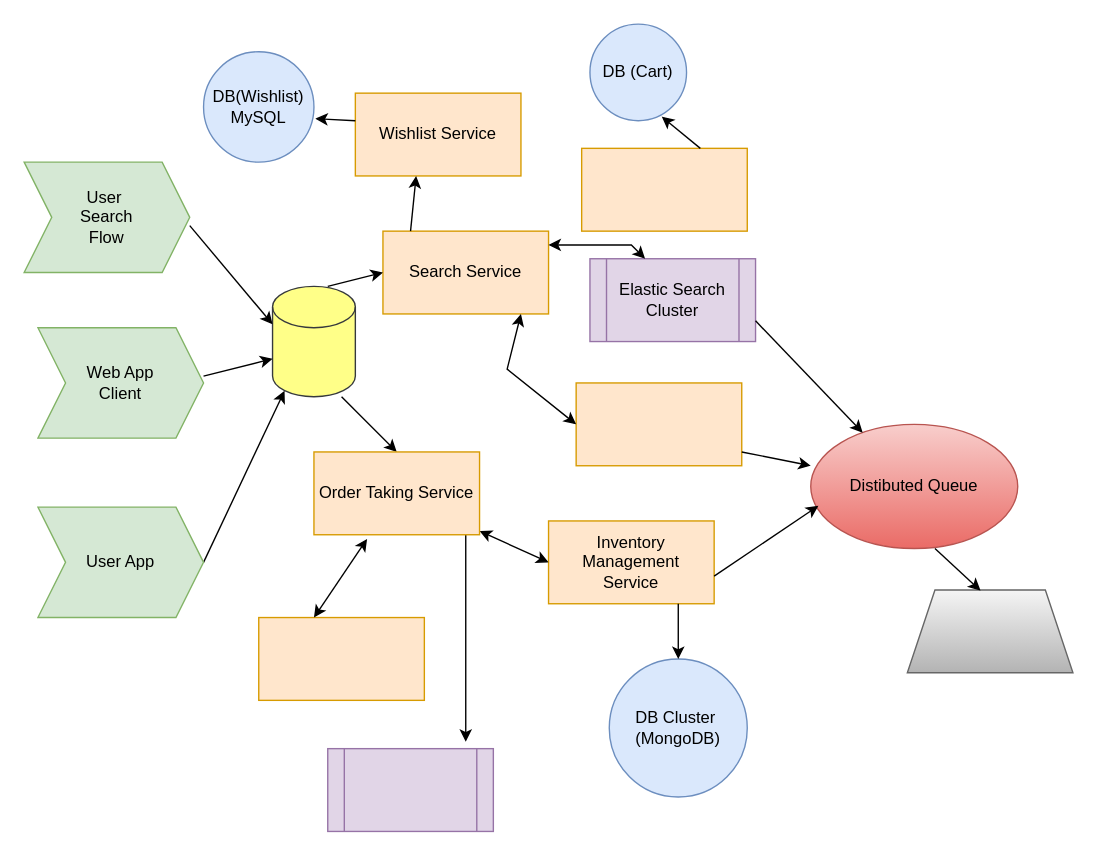
Image size: 1097x856. Some labels were removed from this diagram. The shapes that lost their labels are listed below. From the top down, each one's centre as x and y in pixels, then its label:
At point (663, 189): "Cart Service".
At point (313, 341): "Load balancer".
At point (658, 424): "User Service".
At point (989, 631): "Spark Jobs".
At point (340, 658): "Pricing Service".
At point (409, 789): "Redis Cluster".
